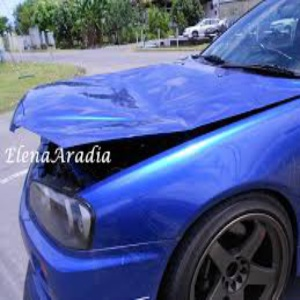bonnet: (9, 74, 196, 145)
